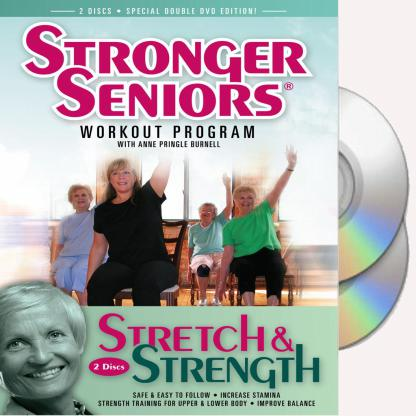face: (2, 303, 81, 400), (111, 167, 135, 192), (238, 193, 255, 212), (73, 191, 90, 208), (201, 206, 215, 221)
